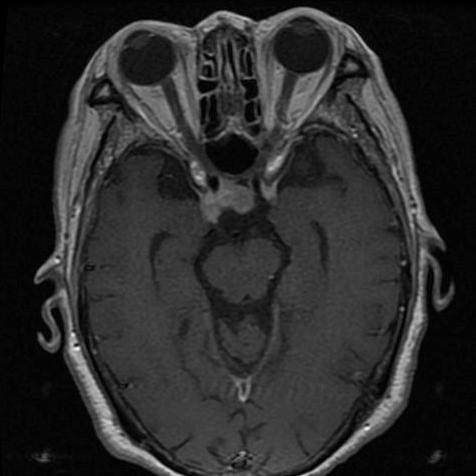Tumour-Pituitary: (194, 172, 285, 217)
